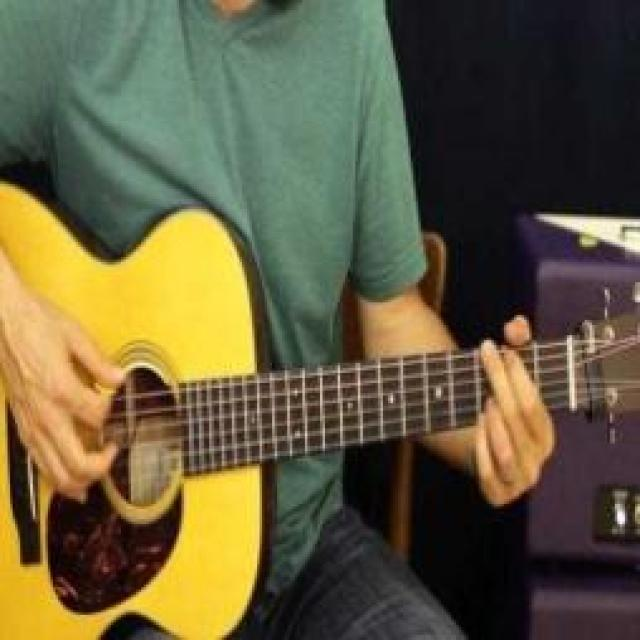acousticguitar: (0, 184, 486, 637), (524, 315, 637, 408)
